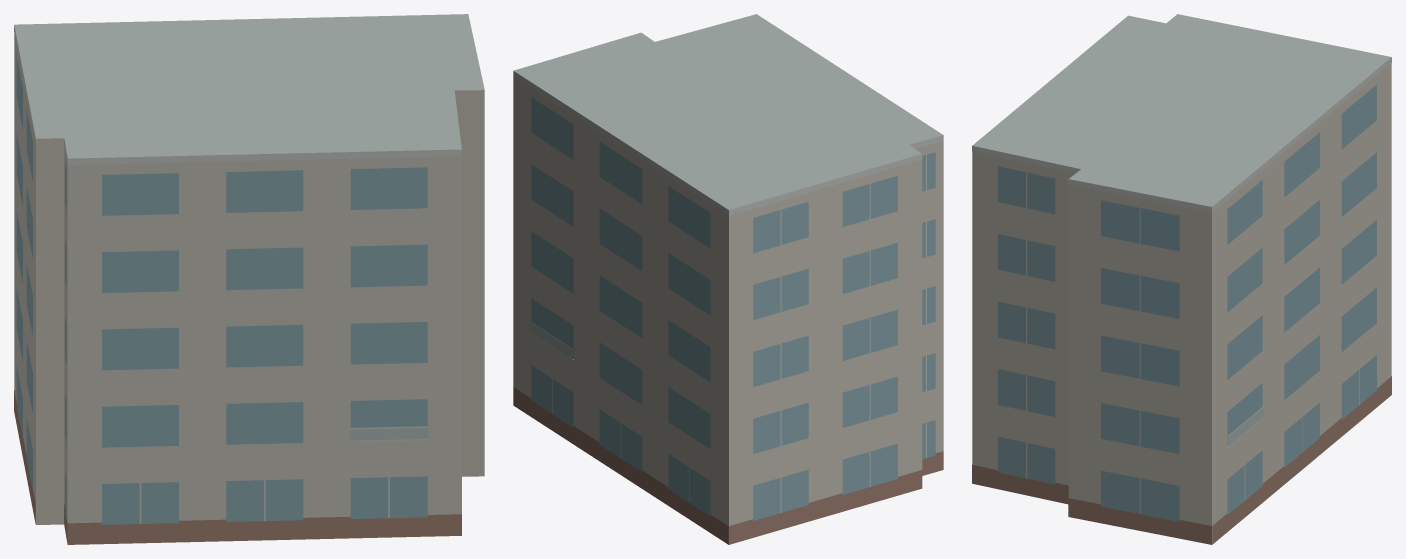
The model's file is survey-upis-32952553.glb.
The picture shows the model from 3 angles, left to right: view 1: azimuth 30°, elevation 25°; view 2: azimuth 150°, elevation 25°; view 3: azimuth 270°, elevation 25°; orthographic projection. The views are drawn at different scales.
Visible parts, largest first — view 1: survey-upis-32952553.tmp; view 2: survey-upis-32952553.tmp; view 3: survey-upis-32952553.tmp.
Boxes of the visible parts, <box> form: survey-upis-32952553.tmp: <box>14,14,484,544</box>; survey-upis-32952553.tmp: <box>513,14,943,544</box>; survey-upis-32952553.tmp: <box>972,14,1391,544</box>.
Size of the model in its own units: 17.34 by 14.15 by 15.94.
